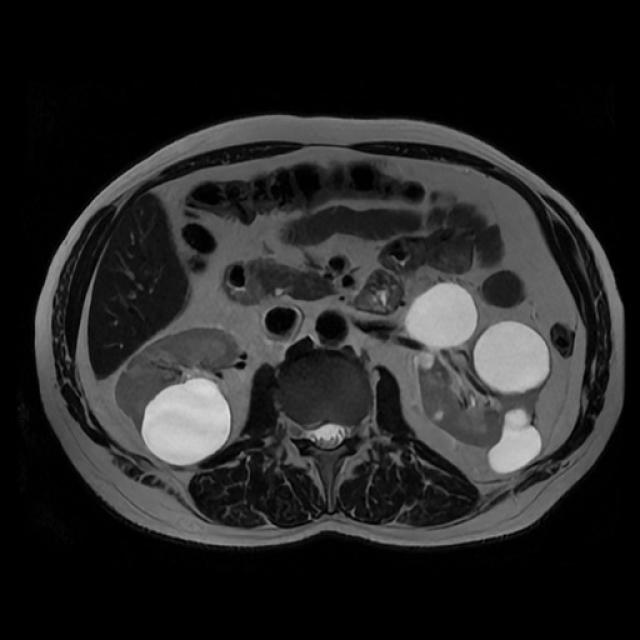sag: (117, 326, 238, 464)
sol: (407, 282, 552, 474)
